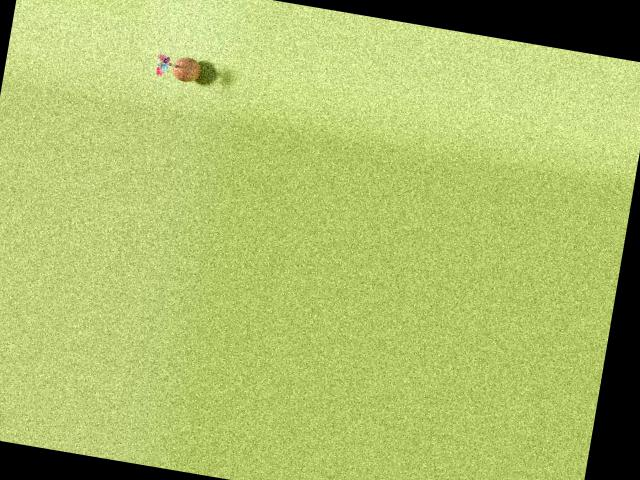egg: (171, 55, 202, 83)
